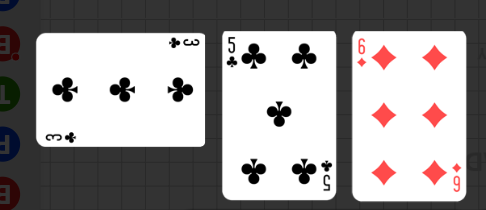3C: (44, 129, 79, 144)
5C: (225, 35, 240, 70)
6D: (450, 160, 462, 193)
